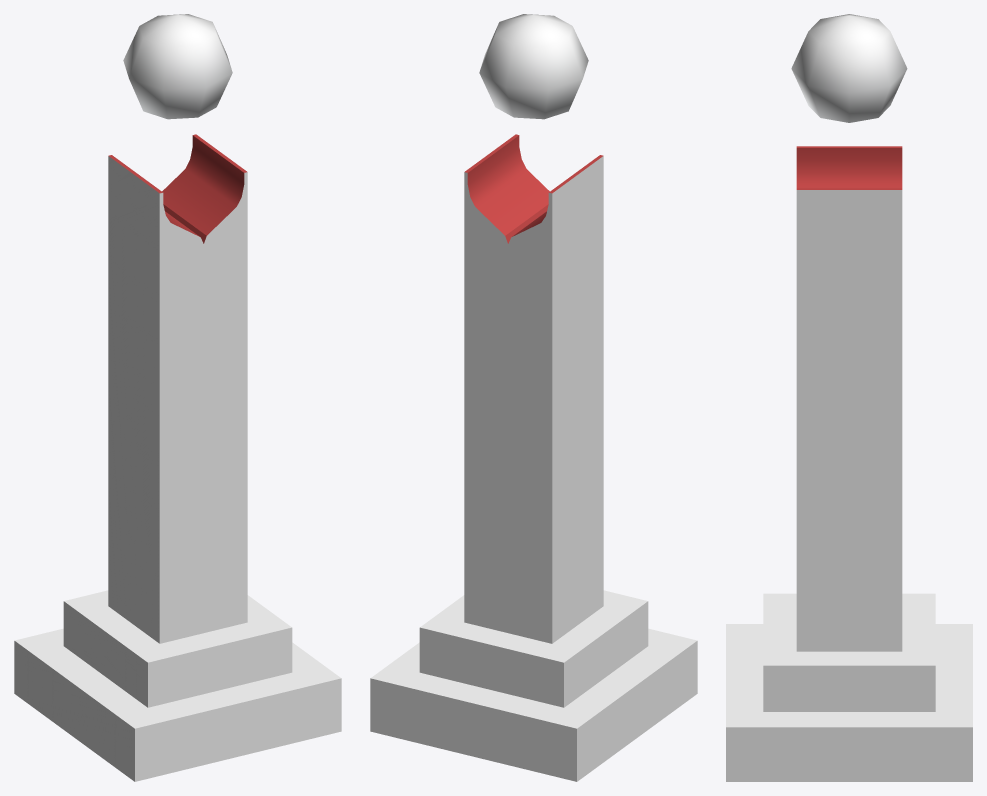
File: totem_eclairage.FBX
3 renders of one model, left to right at view 1: azimuth 30°, elevation 25°; view 2: azimuth 150°, elevation 25°; view 3: azimuth 270°, elevation 25°, orthographic. The views are drawn at different scales.
Parts seen in each view (by area): view 1: totem_eclairage; view 2: totem_eclairage; view 3: totem_eclairage.
Boxes of the visible parts, x1,y1,x2,y2 form: totem_eclairage: (14,14,341,781); totem_eclairage: (370,14,697,781); totem_eclairage: (726,14,972,781).
Size of the model in its own units: 0.5186 by 1.67 by 0.5237.
